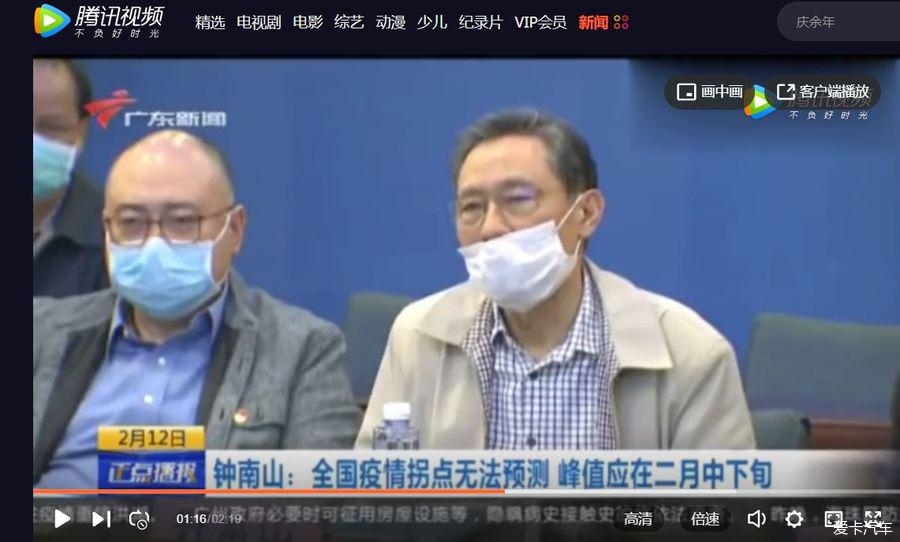OK: (107, 183, 231, 315), (33, 89, 76, 213)
WRONG: (457, 165, 577, 310)
